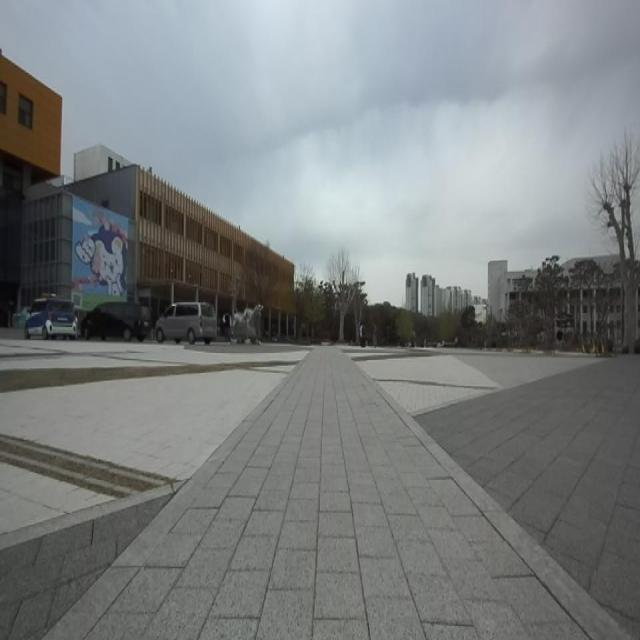sidewalk: (46, 346, 624, 639)
